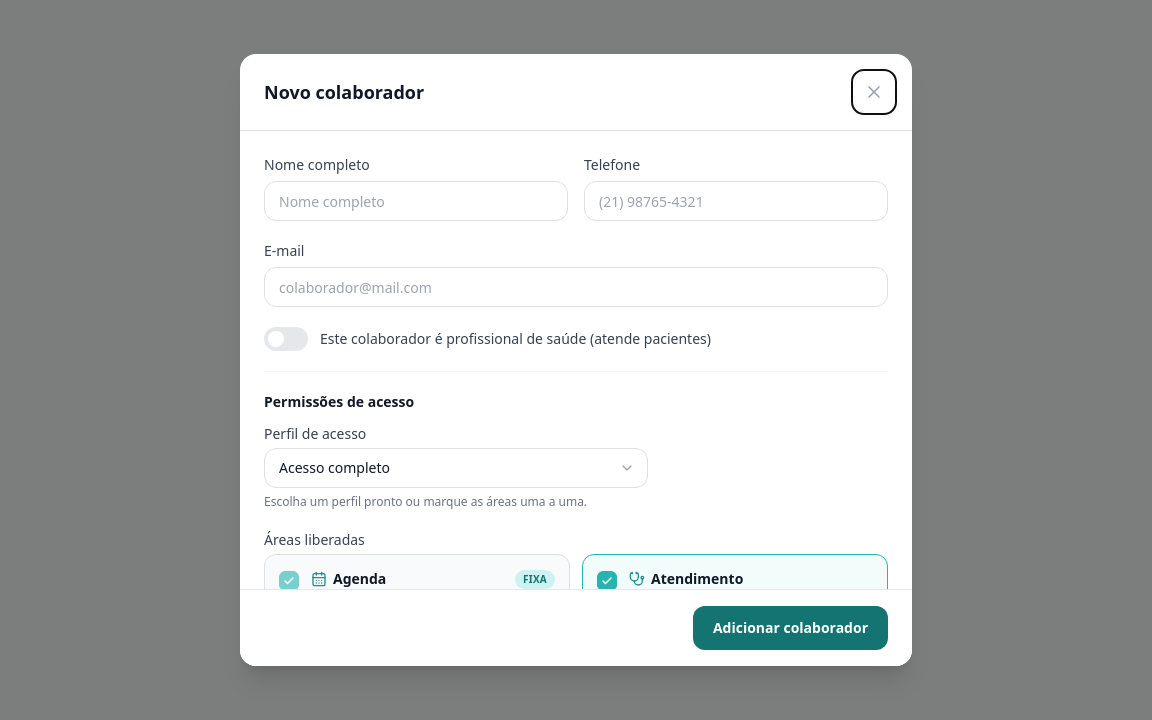
NewCollaboratorModal › deve exibir campos de CRM ao ativar toggle de médico
The image size is (1152, 720).
Click the switch at point(286, 339), box [264,327,308,351]
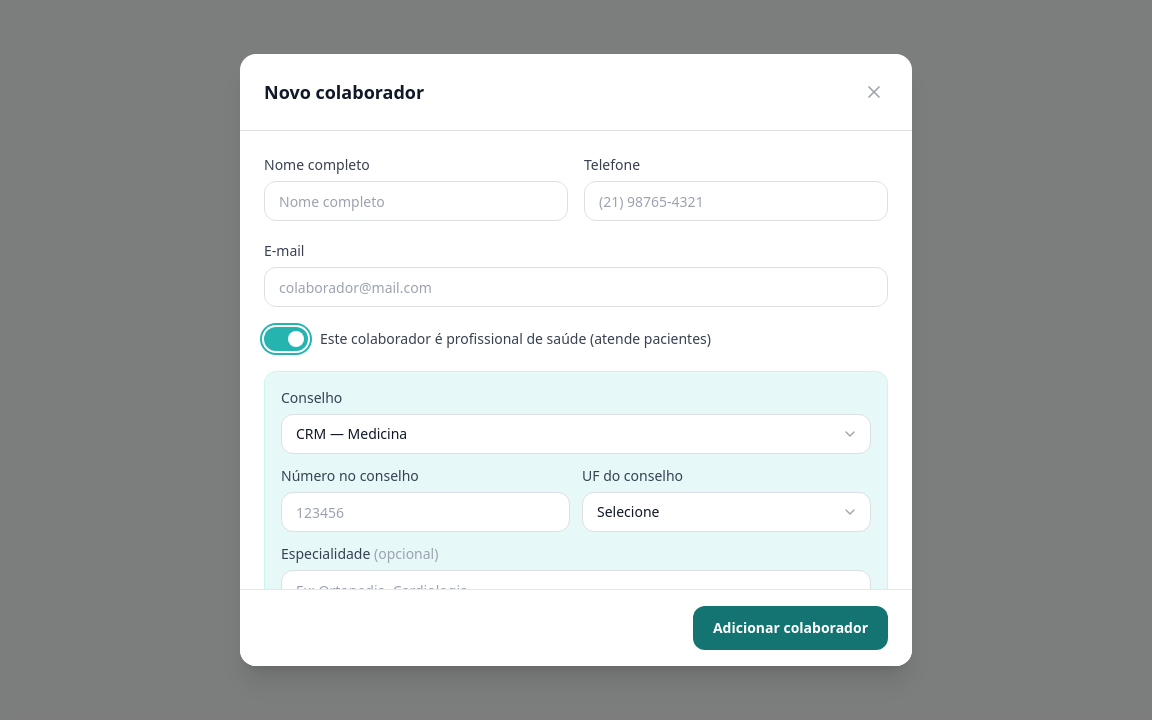
Expected: the field with placeholder "123456" is shown, [281,492,570,532]
Expected: the text "UF do conselho" is shown, [582,466,683,485]
Expected: the dropdown labelled "Conselho" shows "CRM — Medicina", [281,414,871,454]
